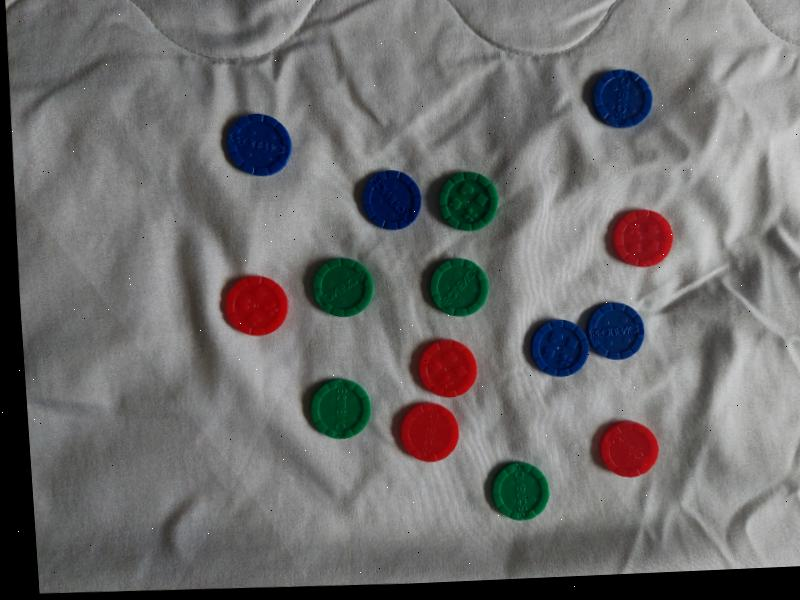Blue_Token: (220, 110, 300, 182), (585, 62, 659, 137), (355, 164, 428, 236), (525, 314, 593, 382), (583, 297, 652, 363)
Green_Token: (303, 373, 377, 445), (483, 455, 556, 527), (306, 250, 377, 322), (423, 250, 493, 322), (432, 166, 503, 236)
Red_Token: (219, 268, 295, 343), (606, 203, 679, 274), (412, 332, 486, 402), (398, 398, 466, 467), (596, 413, 663, 481)
